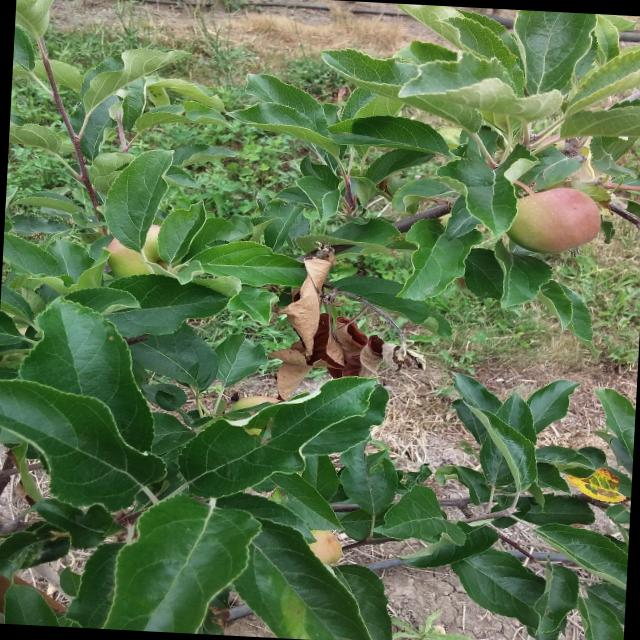-FireBlight-: (284, 256, 386, 378)
